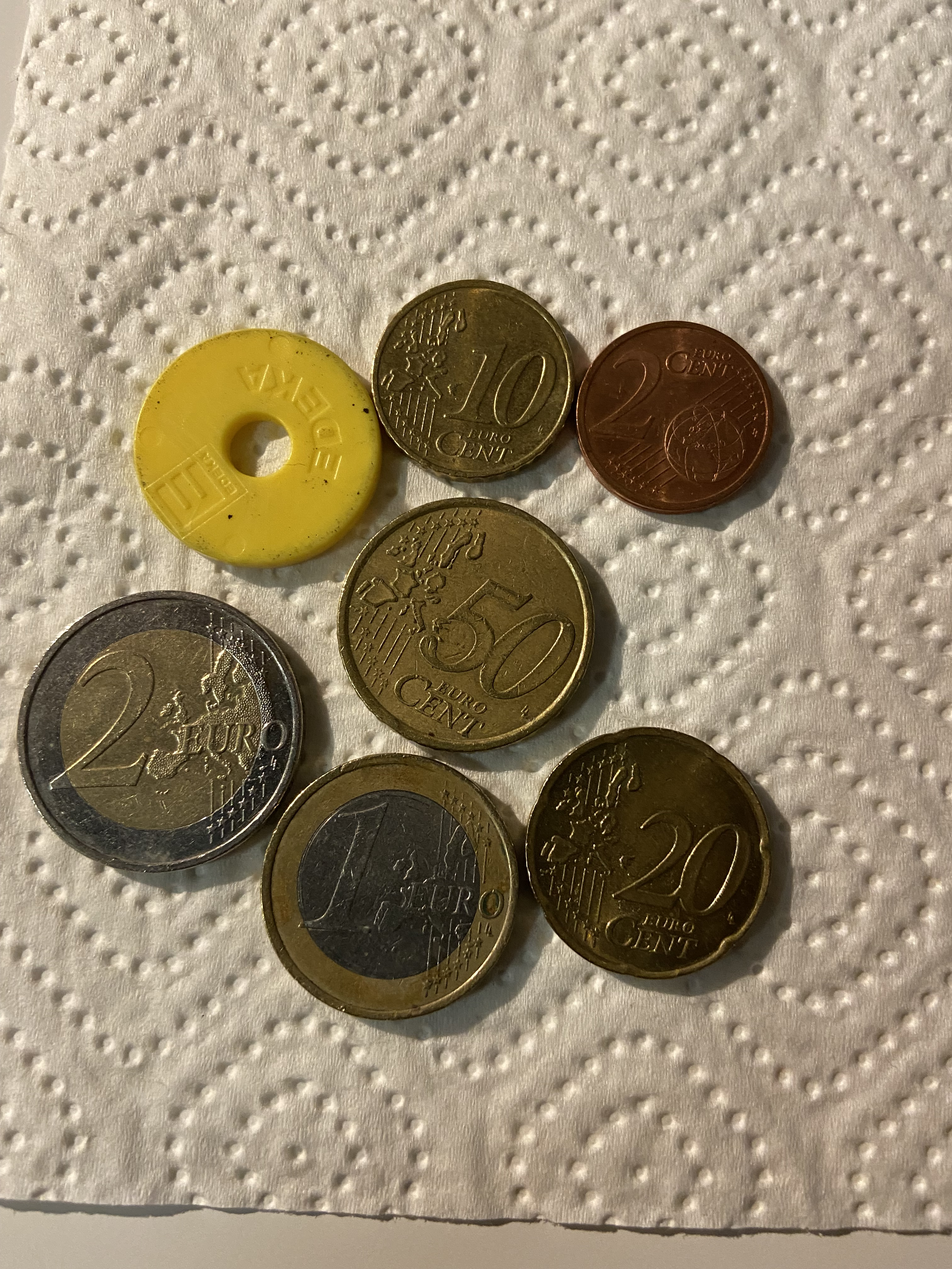1 euro: (255, 750, 543, 1021)
10 cent: (363, 265, 586, 488)
2 cent: (568, 315, 793, 522)
2 euro: (21, 593, 297, 876)
20 cent: (520, 713, 800, 986)
50 cent: (317, 492, 609, 752)
